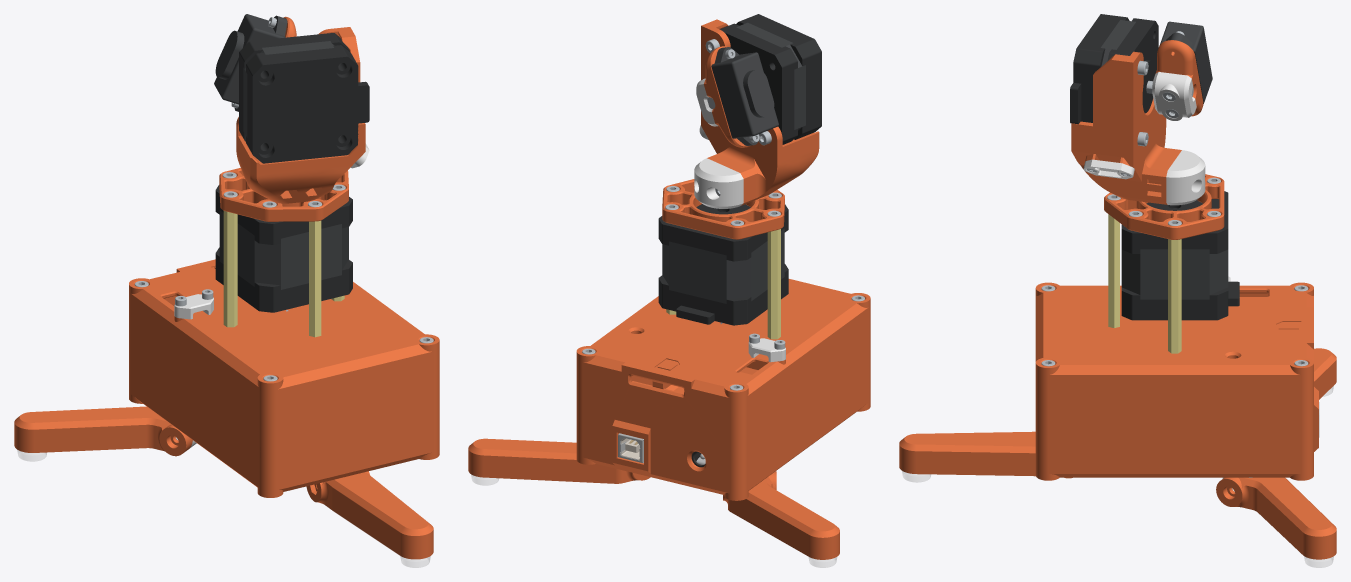
Rendered from LUMYX 1.0.glb.
3 renders of one model, left to right at view 1: azimuth 30°, elevation 25°; view 2: azimuth 150°, elevation 25°; view 3: azimuth 270°, elevation 25°, orthographic. The views are drawn at different scales.
Visible parts, largest first — view 1: Top mount, Arduino Mega mount, Part 1.001, Angle leg, Normal leg, P-axis mount, Part 5, Motor mount, Part 1.004, LIDAR07 - 100W, Part 2, Part 1.003 (+4 smaller); view 2: Top mount, Arduino Mega mount, P-axis mount, Angle leg mirrored, Part 5, Angle leg, LIDAR07 - 100W, Motor mount, Part 2.001, Part 1.004, Part 1.001, Part 2 (+6 smaller); view 3: Top mount, Arduino Mega mount, P-axis mount, Normal leg, Angle leg mirrored, Part 5, Motor mount, Part 1.001, Part 1.004, Part 2, P-axis clip, Part 2.001 (+8 smaller).
Part boxes in pixels (left/top/right/bottom): Top mount: left=129, top=259, right=439, bottom=453; Arduino Mega mount: left=129, top=355, right=439, bottom=497; Part 1.001: left=246, top=45, right=369, bottom=163; Angle leg: left=14, top=406, right=192, bottom=456; Normal leg: left=306, top=471, right=433, bottom=559; P-axis mount: left=236, top=27, right=365, bottom=203; Part 5: left=219, top=210, right=348, bottom=289; Motor mount: left=219, top=168, right=348, bottom=221; Part 1.004: left=215, top=247, right=352, bottom=312; LIDAR07 - 100W: left=214, top=14, right=287, bottom=111; Part 2: left=215, top=185, right=352, bottom=244; Part 1.003: left=223, top=211, right=237, bottom=327; Top mount: left=576, top=279, right=870, bottom=458; Arduino Mega mount: left=576, top=365, right=870, bottom=500; P-axis mount: left=701, top=19, right=819, bottom=205; Angle leg mirrored: left=468, top=438, right=650, bottom=483; Part 5: left=662, top=228, right=784, bottom=303; Angle leg: left=723, top=471, right=839, bottom=559; LIDAR07 - 100W: left=711, top=47, right=778, bottom=145; Motor mount: left=662, top=179, right=784, bottom=239; Part 2.001: left=720, top=23, right=797, bottom=144; Part 1.004: left=658, top=264, right=788, bottom=325; Part 1.001: left=736, top=14, right=821, bottom=139; Part 2: left=658, top=204, right=788, bottom=261; Top mount: left=1035, top=282, right=1318, bottom=436; Arduino Mega mount: left=1035, top=415, right=1318, bottom=480; P-axis mount: left=1071, top=51, right=1181, bottom=204; Normal leg: left=899, top=431, right=1072, bottom=478; Angle leg mirrored: left=1216, top=477, right=1336, bottom=559; Part 5: left=1121, top=249, right=1228, bottom=299; Motor mount: left=1104, top=174, right=1224, bottom=239; Part 1.001: left=1070, top=14, right=1129, bottom=124; Part 1.004: left=1121, top=281, right=1239, bottom=320; Part 2: left=1121, top=191, right=1228, bottom=253; P-axis clip: left=1166, top=150, right=1205, bottom=205; Part 2.001: left=1107, top=18, right=1158, bottom=113.
Size of the model in its own units: 0.1739 by 0.1927 by 0.173.
